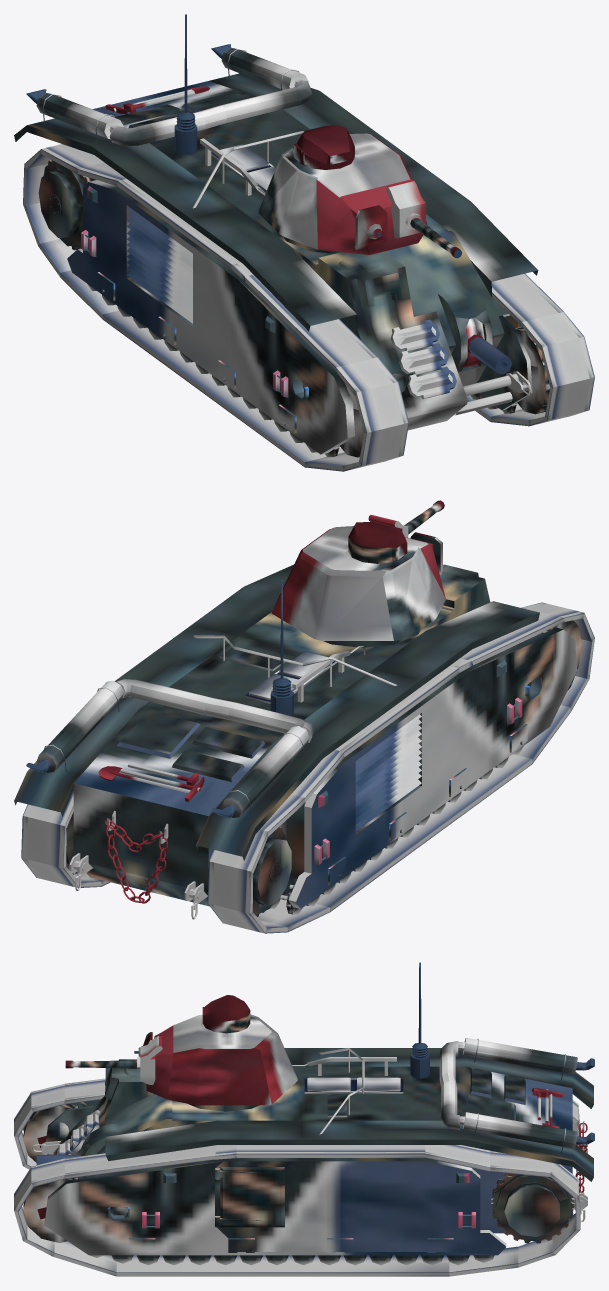
The model's file is char-b1-bis.dae.
The picture shows the model from 3 angles, top to bottom: view 1: azimuth 30°, elevation 25°; view 2: azimuth 150°, elevation 25°; view 3: azimuth 270°, elevation 25°; orthographic projection. The views are drawn at different scales.
Visible parts, largest first — view 1: FRACharB1Bis.002; view 2: FRACharB1Bis.002; view 3: FRACharB1Bis.002.
Part boxes in pixels (bbox=[...]): FRACharB1Bis.002: bbox=[14, 14, 594, 471]; FRACharB1Bis.002: bbox=[14, 500, 594, 933]; FRACharB1Bis.002: bbox=[14, 962, 594, 1276].
Size of the model in its own units: 6.78 by 17.46 by 8.25.
